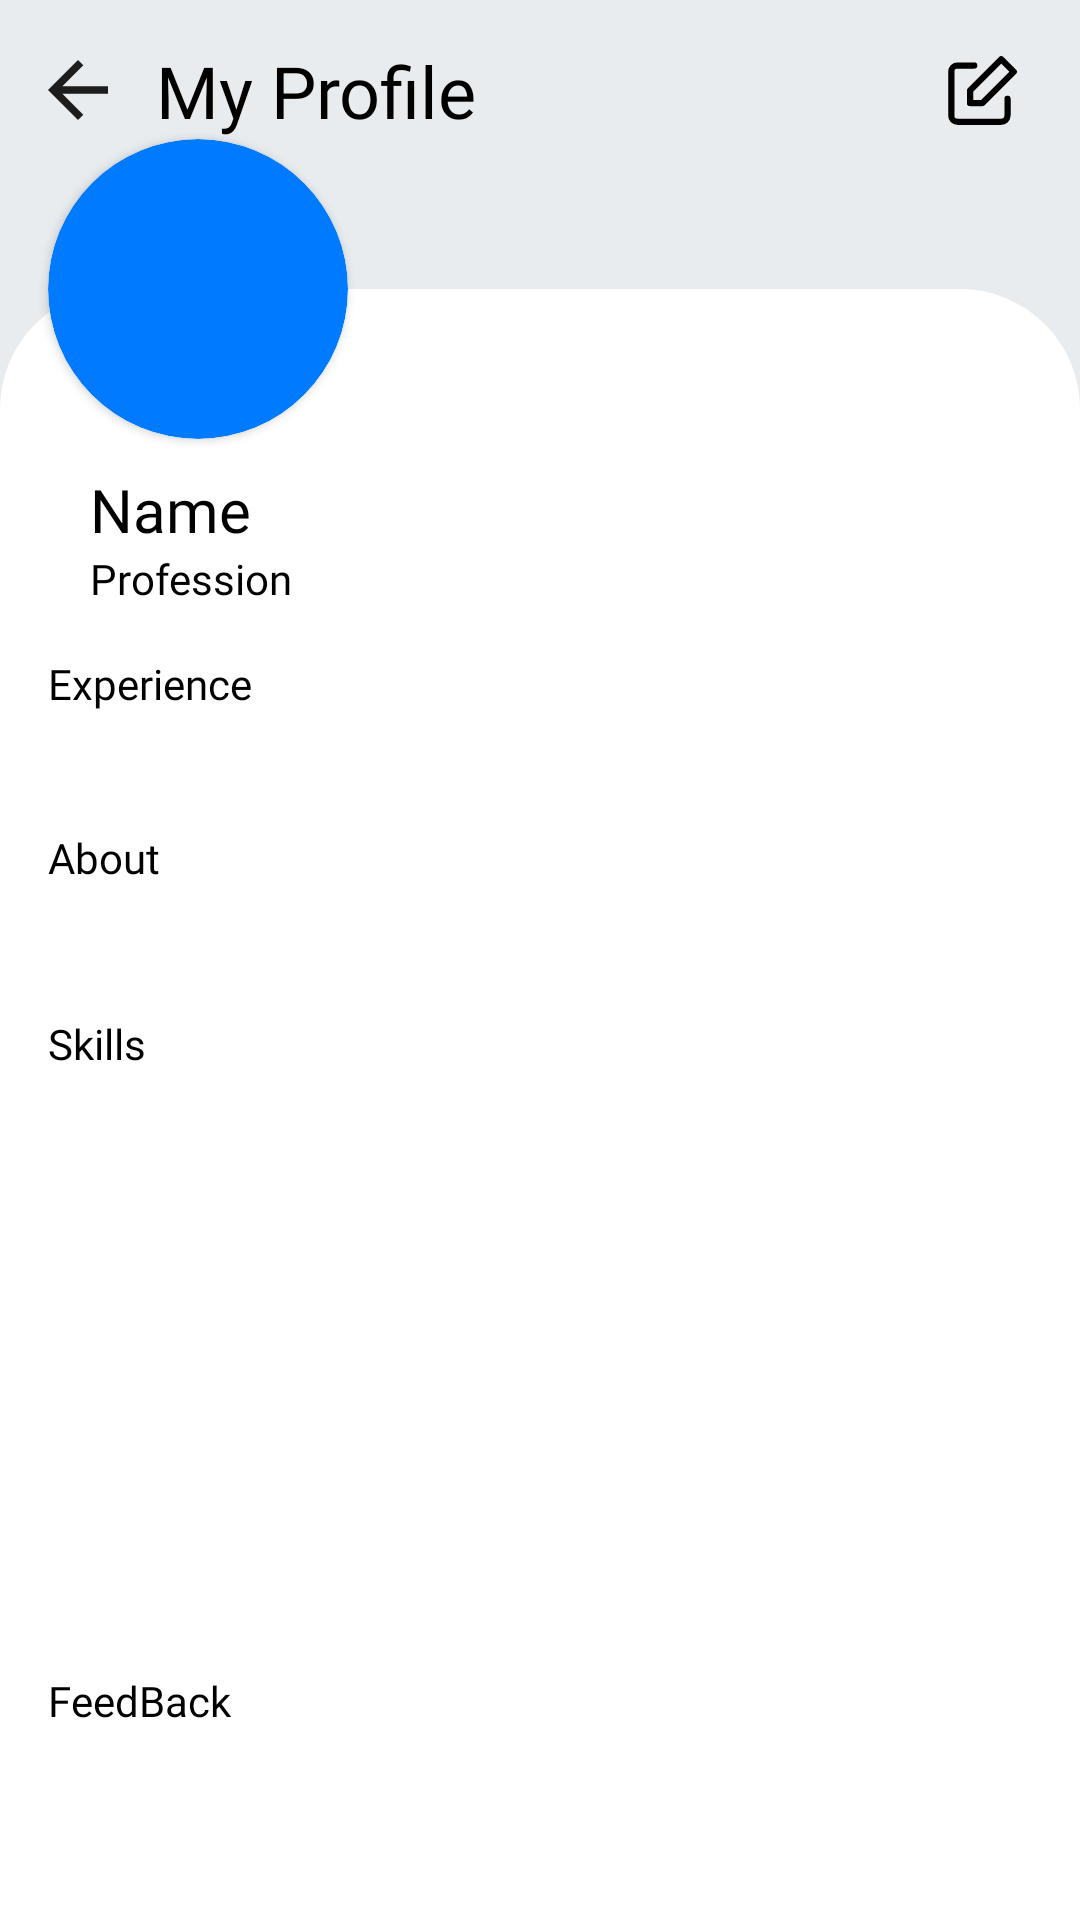

Where icons sit on this 1080w x 1920h app screen, as (x1, y1, x2, y2):
back: (48, 60, 108, 120)
edit: (948, 56, 1017, 125)
